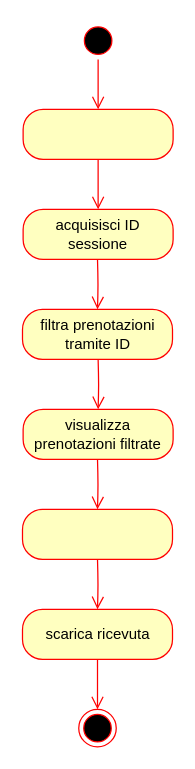
Image size: 195x769. Some labels were removed from this diagram. The centre of each missing label's shape, as x and y in pixels:
acquisisci prenotazione di cui scaricare la ricevuta: the point at 96,533
richiesta visualizza prenotazioni effettuate: the point at 97,133
